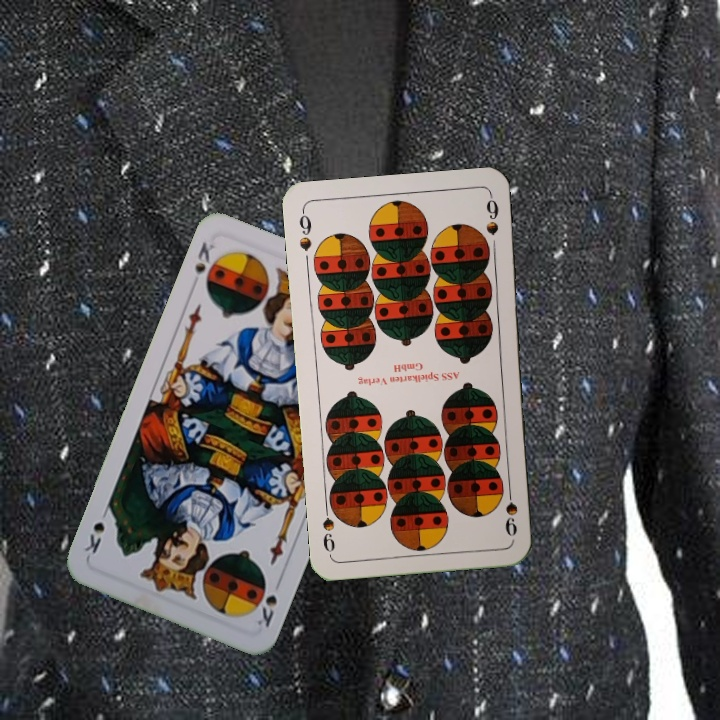S9: (501, 481, 520, 539), (295, 206, 315, 253)
SK: (187, 237, 221, 293), (250, 577, 280, 630)
